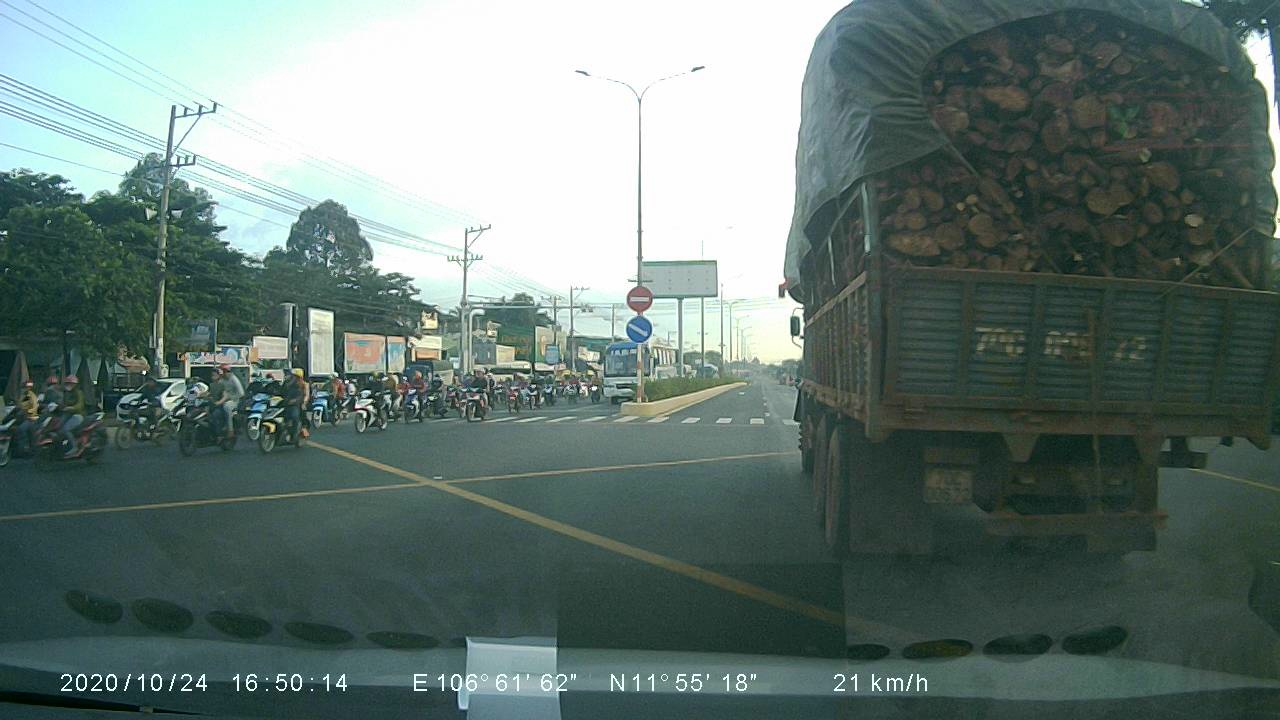Cam di nguoc chieu: (622, 281, 654, 312)
Huong di phai re phai: (622, 316, 654, 343)
